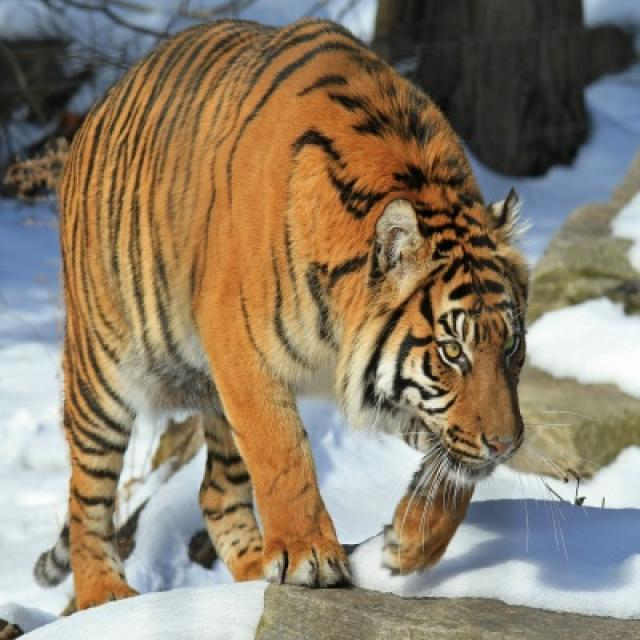Tiger: (32, 21, 538, 602)
